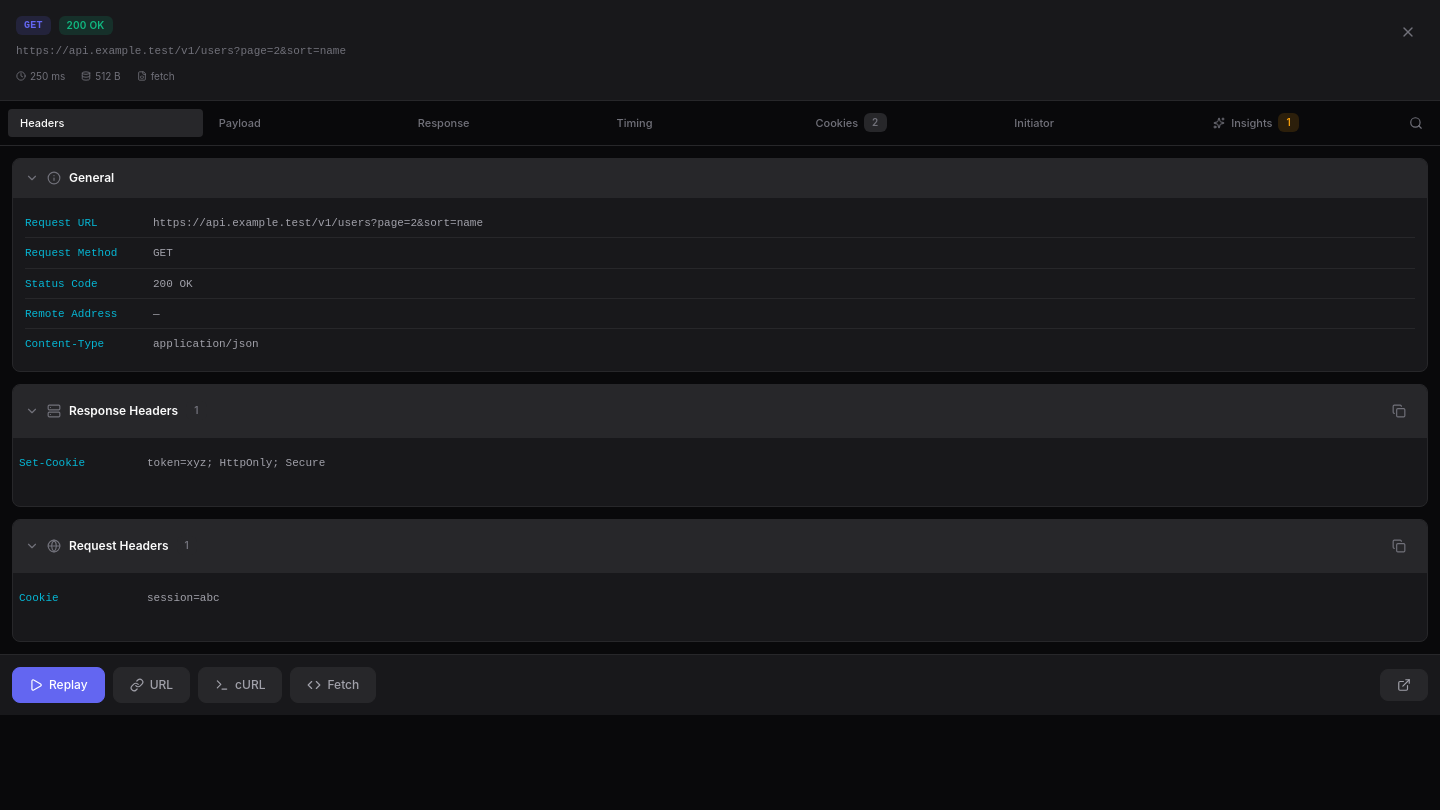
NetworkRequestDetails (HTTP) › lists request and response cookies
Expected: the text "2" is shown, [864,113,886,132]
Click the button "Cookies 2". click: (901, 123)
box: [803,107,998,138]
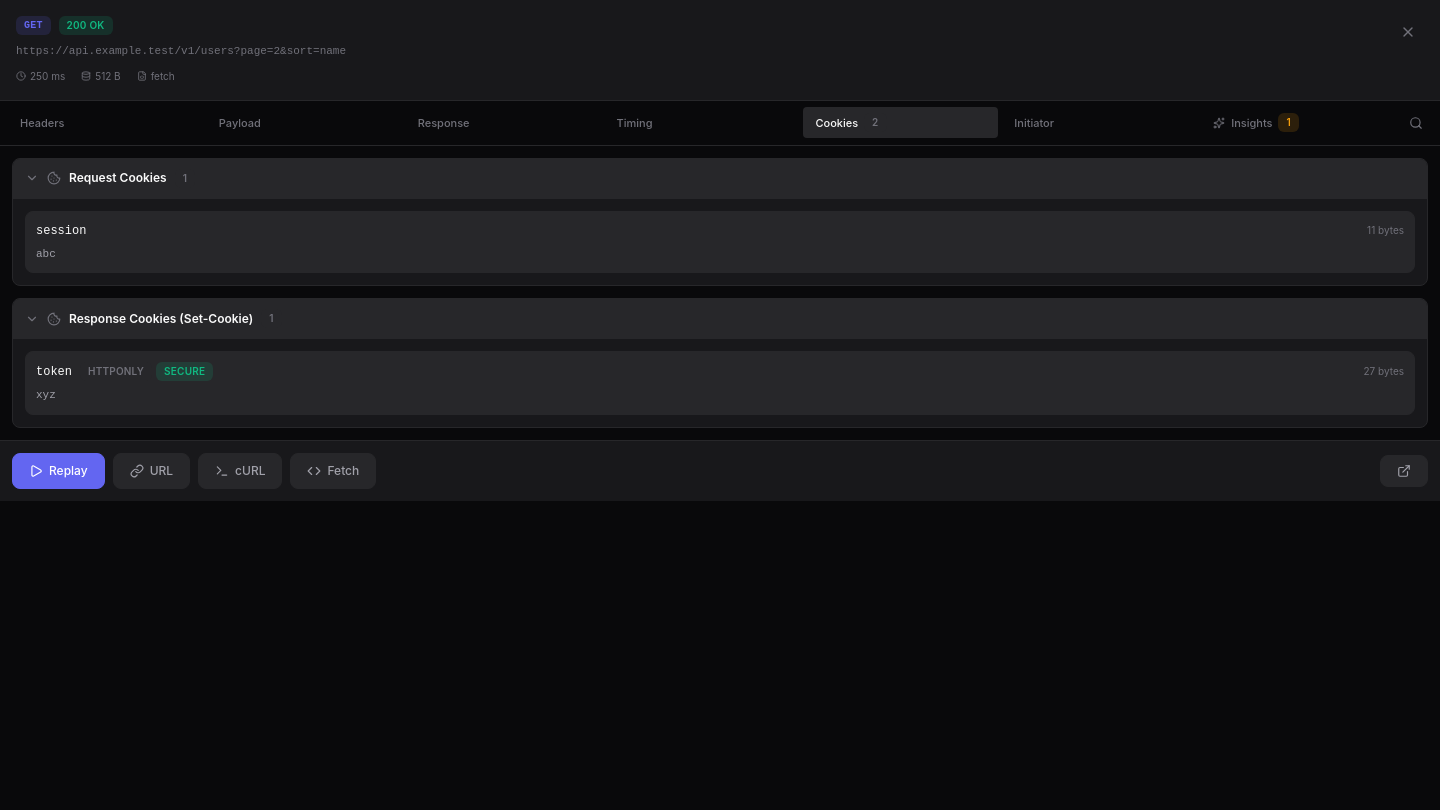
Expected: the text "session" is shown, [36,222,86,240]
Now the text "Request Cookies" is shown, box [69,169,167,187]
